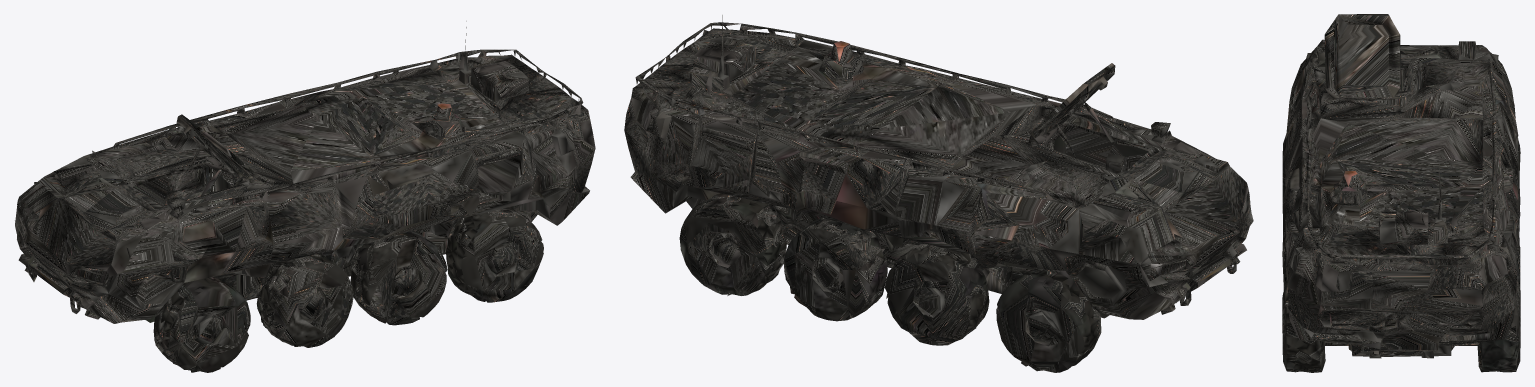
The model's file is apc.glb.
3 renders of one model, left to right at view 1: azimuth 30°, elevation 25°; view 2: azimuth 150°, elevation 25°; view 3: azimuth 270°, elevation 25°, orthographic. The views are drawn at different scales.
Visible parts, largest first — view 1: output_unwrapped; view 2: output_unwrapped; view 3: output_unwrapped.
Part boxes in pixels (x1,y1,x2,y2): output_unwrapped: [15, 21, 595, 372]; output_unwrapped: [624, 15, 1253, 372]; output_unwrapped: [1282, 14, 1520, 372].
Size of the model in its own units: 1.9 by 0.7875 by 0.7538.
1 material, 1 textured.
